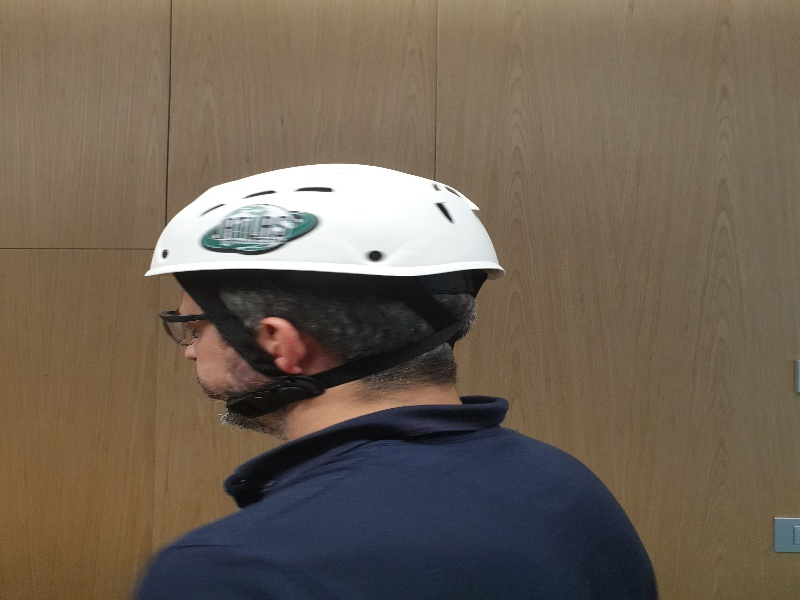Baret: (148, 163, 506, 282)
